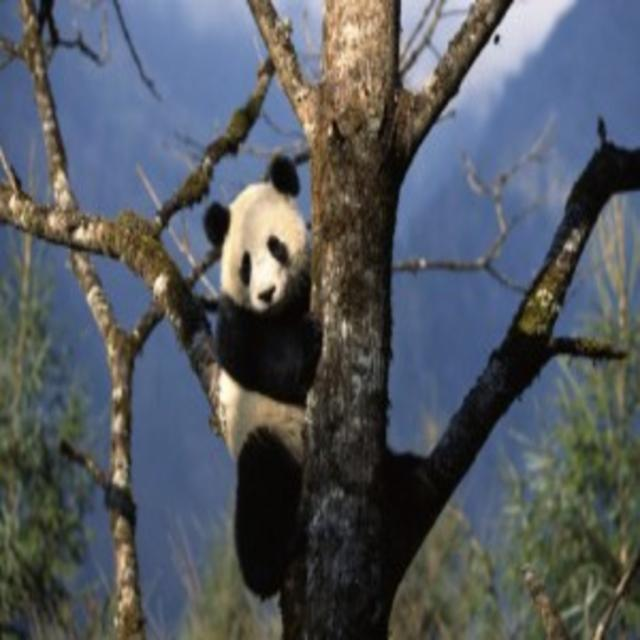panda: (199, 153, 418, 602)
